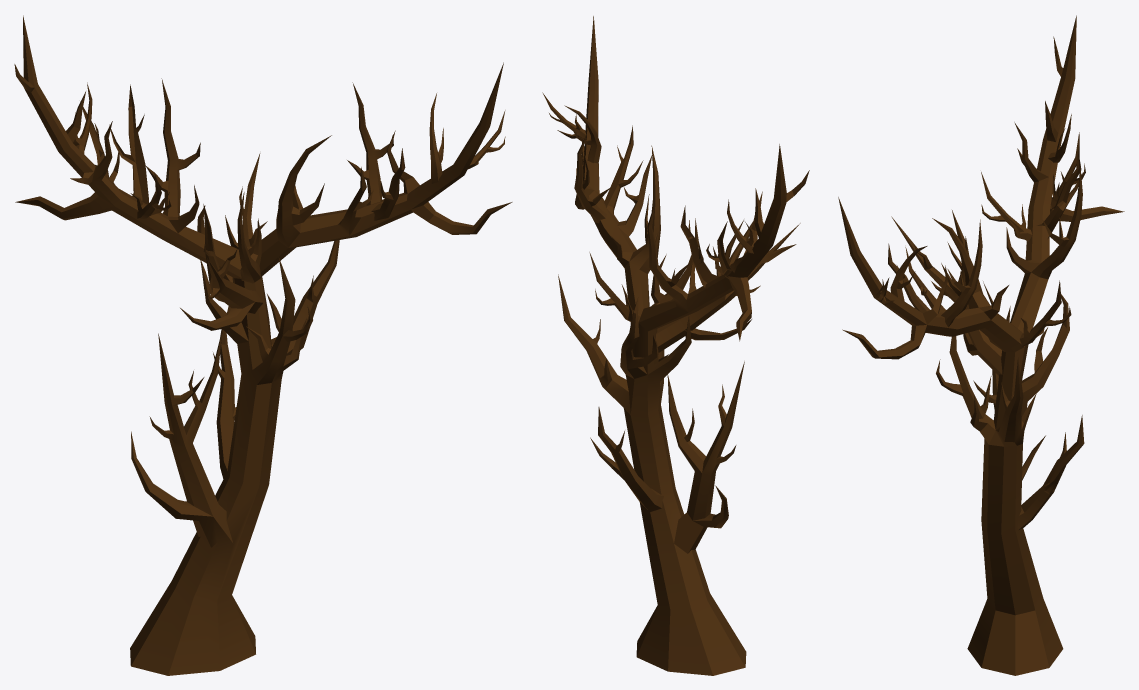
The model's file is tree.glb.
The picture shows the model from 3 angles, left to right: view 1: azimuth 30°, elevation 25°; view 2: azimuth 150°, elevation 25°; view 3: azimuth 270°, elevation 25°; orthographic projection. The views are drawn at different scales.
Visible parts, largest first — view 1: Cylinder; view 2: Cylinder; view 3: Cylinder.
Part boxes in pixels (<box>): Cylinder: <box>14,15,512,675</box>; Cylinder: <box>542,16,809,675</box>; Cylinder: <box>838,15,1124,675</box>.
Bounding box in the file's own units: 9.38 × 14.49 × 6.55.
Materials: 1 (1 with a texture image).
